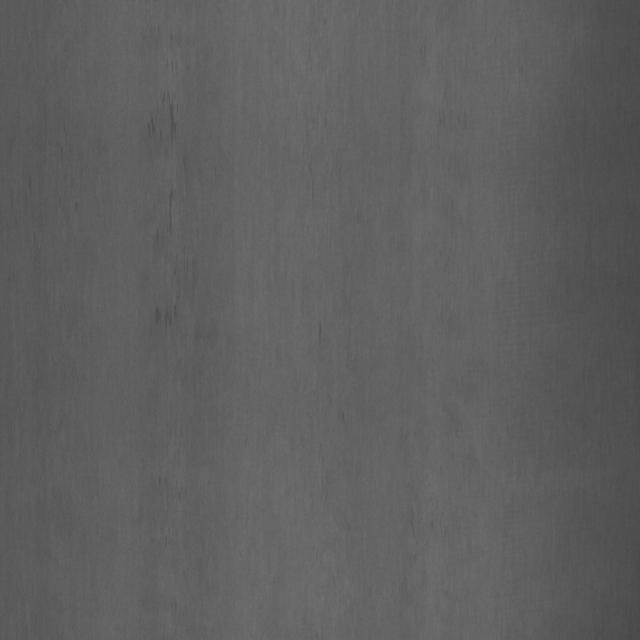inclusion: (135, 92, 217, 353)
